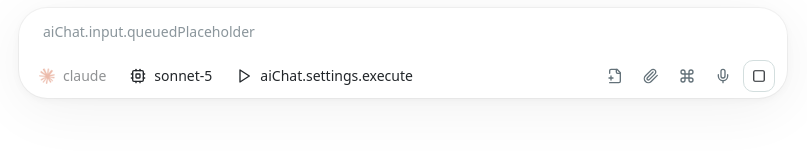
Test case: ChatInputArea › inserts voice transcript locally for a working thread without patching a draft
Step 1. Click the button named "aiChat.input.voice.start" → click(723, 76), box [707,60,739,92]
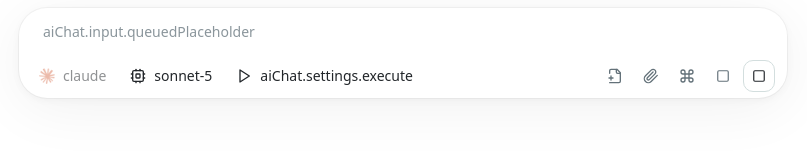
Expected: the button named "aiChat.input.voice.stop" is shown
Step 2. Click the button named "aiChat.input.voice.stop" → click(723, 76), box [707,60,739,92]
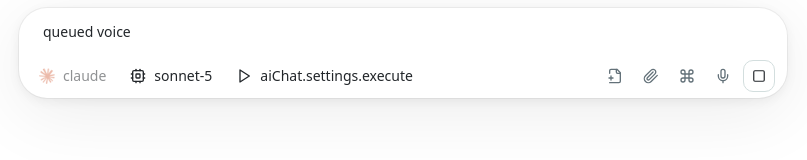
Expected: the text box holds "queued voice", [35,14,771,54]
